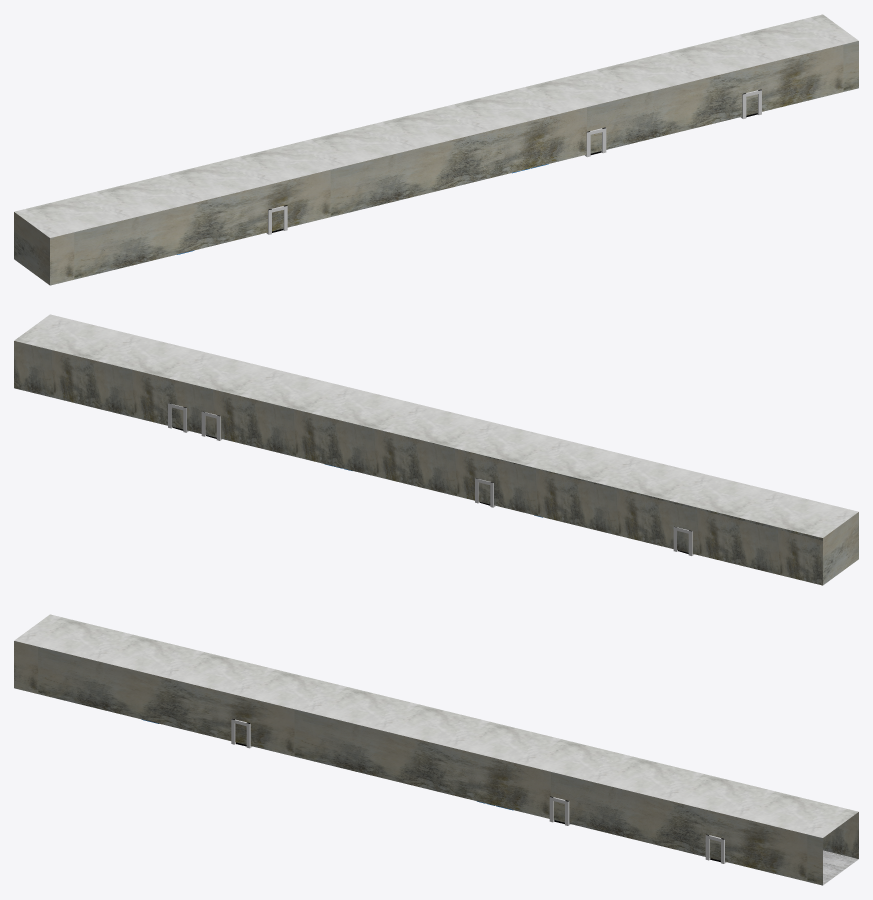
File: mapa.fbx
3 renders of one model, top to bottom at view 1: azimuth 30°, elevation 25°; view 2: azimuth 150°, elevation 25°; view 3: azimuth 330°, elevation 25°, orthographic.
Visible parts, largest first — view 1: Cubo; view 2: Cubo; view 3: Cubo.
Part boxes in pixels (left/top/right/bottom): Cubo: left=14, top=14, right=858, bottom=285; Cubo: left=14, top=314, right=858, bottom=585; Cubo: left=14, top=614, right=858, bottom=885.
Bounding box in the file's own units: 31242 × 1827 × 2511.
9 materials, 3 textured.
